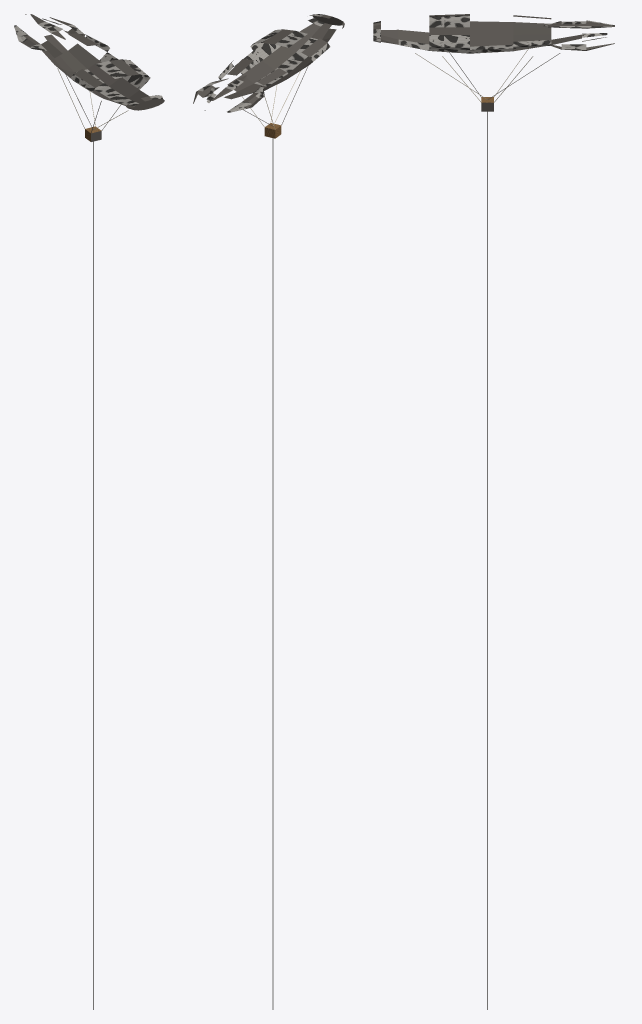
Rendered from wreck.gltf.
3 renders of one model, left to right at view 1: azimuth 30°, elevation 25°; view 2: azimuth 150°, elevation 25°; view 3: azimuth 270°, elevation 25°, orthographic. The views are drawn at different scales.
Visible parts, largest first — view 1: balloon_wreck; view 2: balloon_wreck; view 3: balloon_wreck.
Boxes of the visible parts, left/top/right/bottom form: balloon_wreck: left=14, top=14, right=164, bottom=1009; balloon_wreck: left=193, top=14, right=344, bottom=1009; balloon_wreck: left=373, top=14, right=614, bottom=1009.
Bounding box in the file's own units: 20.62 × 300 × 70.
4 materials, 2 textured.
